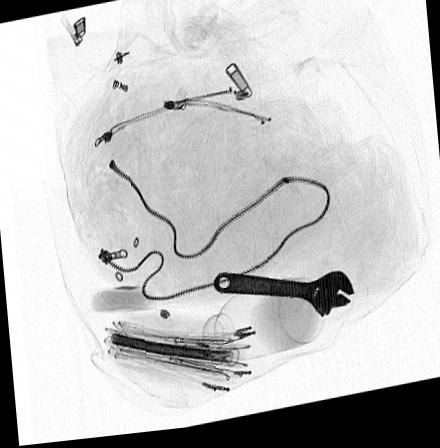Wrench: (211, 276, 355, 326)
